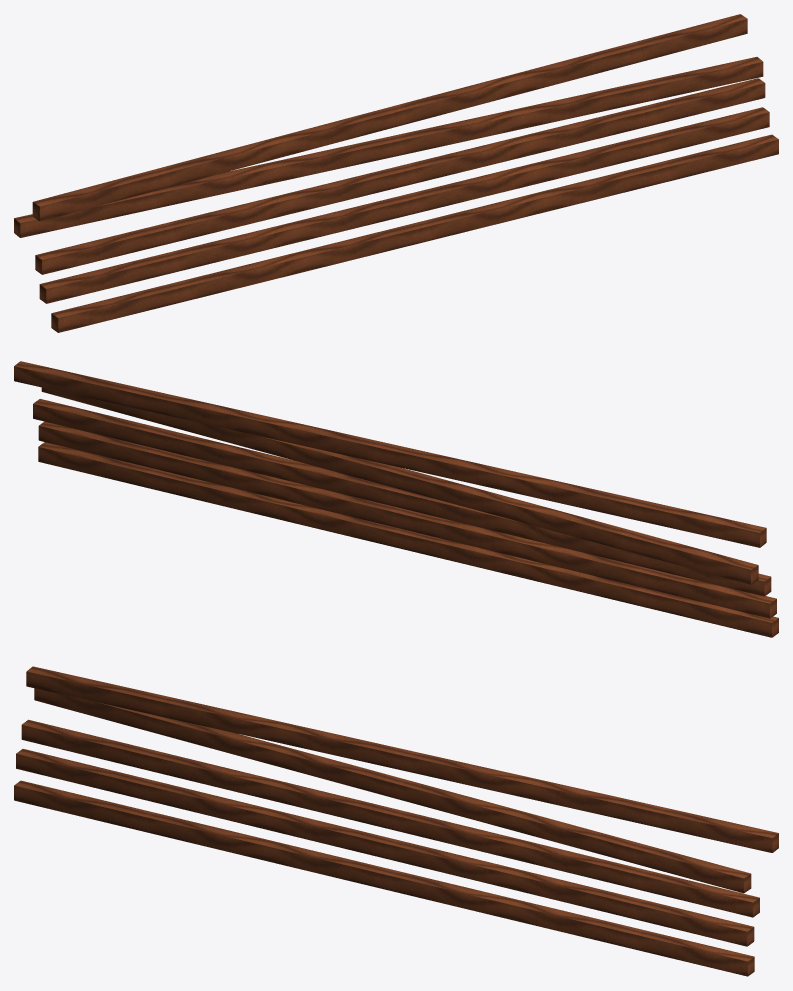
File: EST-MAD-002_anim.glb
3 renders of one model, top to bottom at view 1: azimuth 30°, elevation 25°; view 2: azimuth 150°, elevation 25°; view 3: azimuth 330°, elevation 25°, orthographic.
Parts seen in each view (by area): view 1: EST-MAD-002_anim1, EST-MAD-002_anim2, EST-MAD-002_anim0, EST-MAD-002_anim4, EST-MAD-002_anim3; view 2: EST-MAD-002_anim4, EST-MAD-002_anim1, EST-MAD-002_anim0, EST-MAD-002_anim2, EST-MAD-002_anim3; view 3: EST-MAD-002_anim4, EST-MAD-002_anim0, EST-MAD-002_anim1, EST-MAD-002_anim2, EST-MAD-002_anim3.
Part boxes in pixels (x1,y1,x2,y2): EST-MAD-002_anim1: [39, 107, 769, 303]; EST-MAD-002_anim2: [35, 78, 765, 274]; EST-MAD-002_anim0: [51, 134, 778, 332]; EST-MAD-002_anim4: [32, 14, 747, 221]; EST-MAD-002_anim3: [14, 57, 763, 237]; EST-MAD-002_anim4: [14, 361, 766, 547]; EST-MAD-002_anim1: [38, 421, 776, 618]; EST-MAD-002_anim0: [38, 442, 778, 637]; EST-MAD-002_anim2: [33, 399, 771, 596]; EST-MAD-002_anim3: [41, 387, 758, 584]; EST-MAD-002_anim4: [26, 666, 778, 852]; EST-MAD-002_anim0: [14, 780, 754, 976]; EST-MAD-002_anim1: [16, 749, 754, 946]; EST-MAD-002_anim2: [21, 719, 759, 917]; EST-MAD-002_anim3: [34, 688, 751, 893].
Bounding box in the file's own units: 3.04 × 0.4601 × 0.2709.
1 material, 1 textured.
